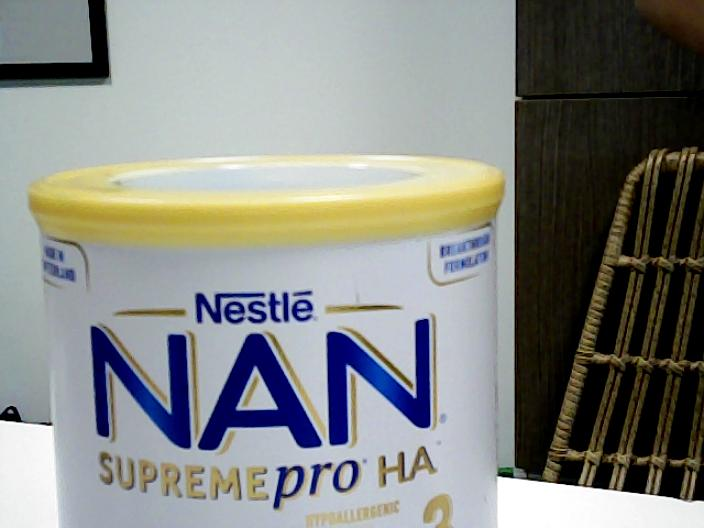Babymilk-powder_800-899g_Halal_NonHealthy: (24, 152, 505, 528)
